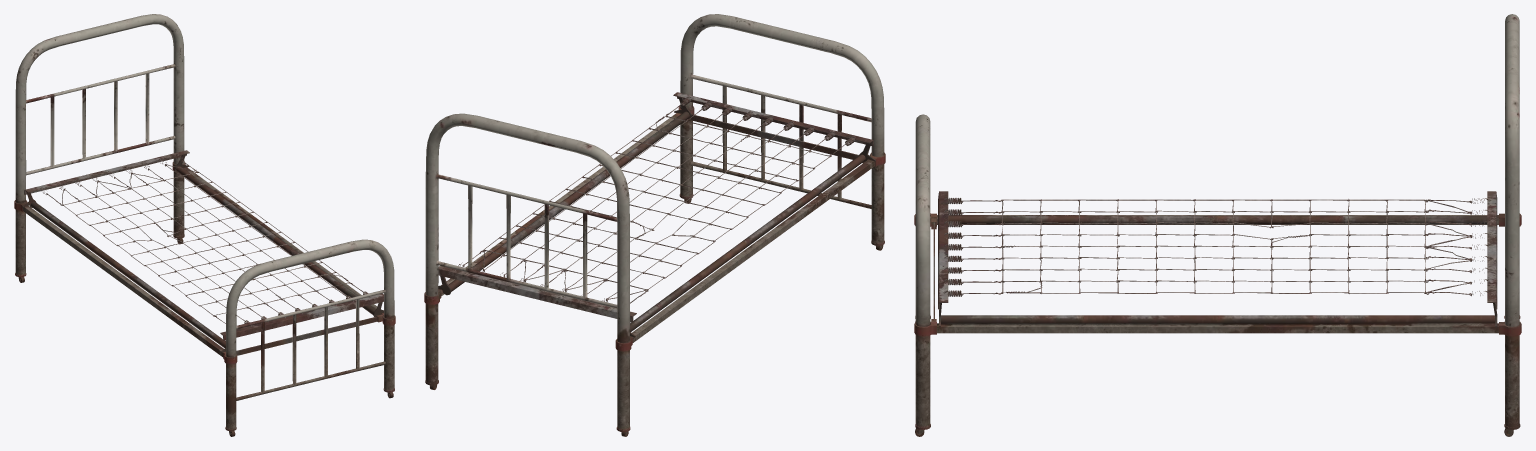
Rendered from ph-old_bed_frame.glb.
3 views of the same model, side by side, from view 1: azimuth 30°, elevation 25°; view 2: azimuth 150°, elevation 25°; view 3: azimuth 270°, elevation 25° (orthographic). The views are drawn at different scales.
Visible parts, largest first — view 1: old_bed_frame; view 2: old_bed_frame; view 3: old_bed_frame.
Part boxes in pixels (x1,y1,x2,y2): old_bed_frame: (14,14,395,436); old_bed_frame: (424,14,885,436); old_bed_frame: (914,14,1521,436).
Bounding box in the file's own units: 0.4519 × 0.6002 × 1.
Materials: 1 (1 with a texture image).
